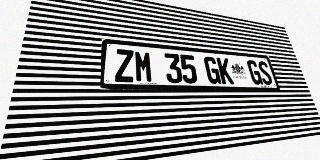3: (164, 53, 183, 83)
5: (179, 54, 198, 84)
G: (203, 56, 222, 84), (246, 60, 263, 85)
K: (216, 57, 234, 84)
M: (134, 50, 153, 83)
S: (257, 61, 274, 85)
Z: (115, 49, 135, 82)
